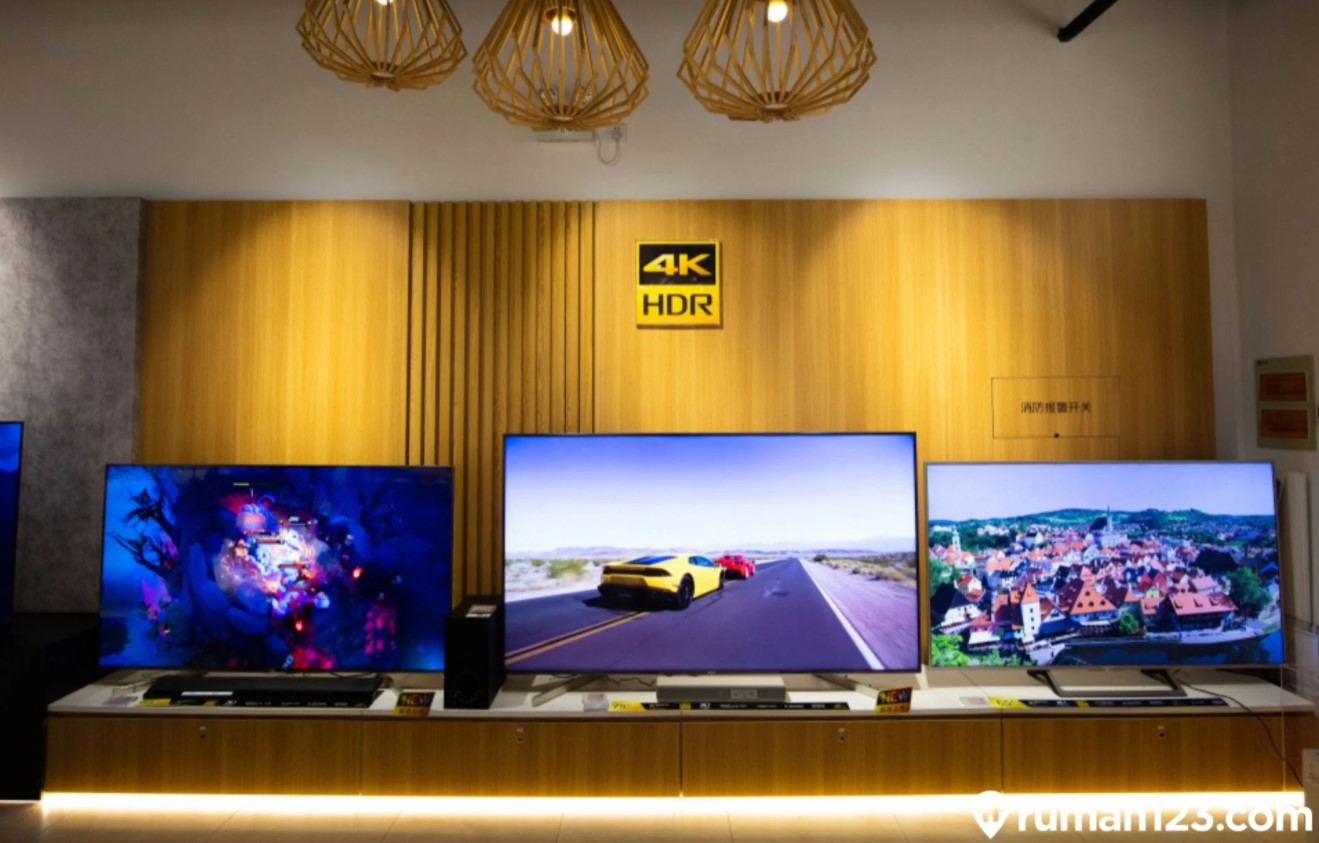tv: (473, 446, 933, 694), (68, 446, 460, 696), (916, 447, 1317, 679)
